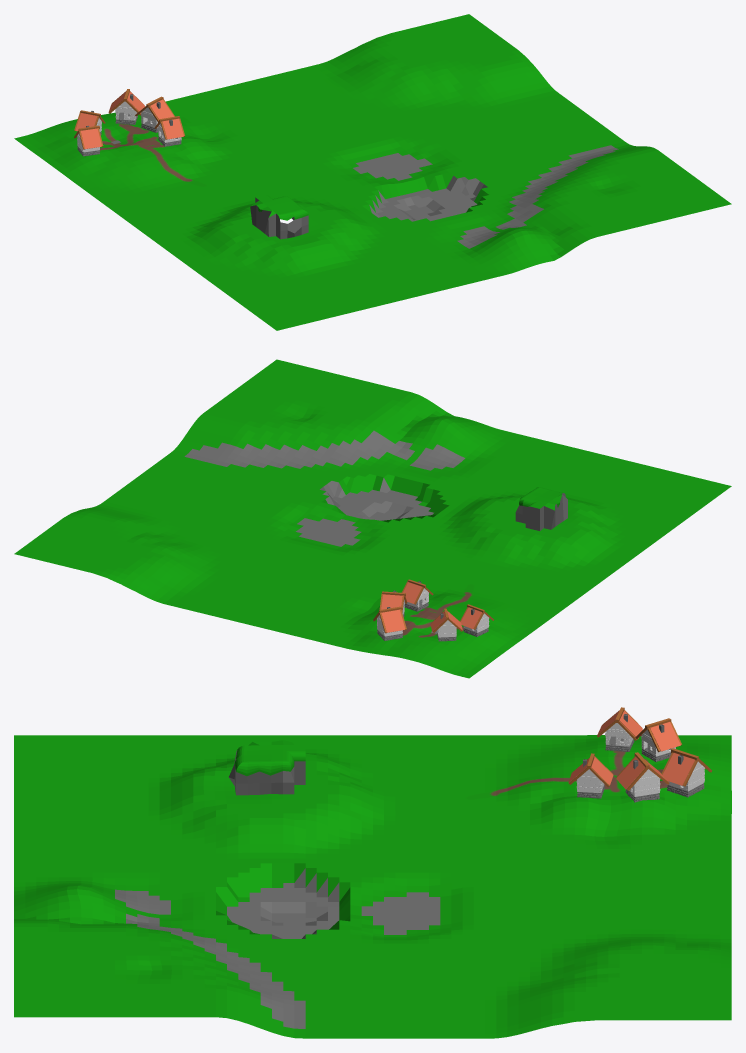
The model's file is road1Map.fbx.
3 views of the same model, one above another, from view 1: azimuth 30°, elevation 25°; view 2: azimuth 150°, elevation 25°; view 3: azimuth 270°, elevation 25° (orthographic). The views are drawn at different scales.
Visible parts, largest first — view 1: Plane, Cube.003, Cube.004, Cube.005, Cube.051; view 2: Plane, Cube.003, Cube.051, Cube.001, Cube.005; view 3: Plane, Cube.003, Cube.004, Cube.001, Cube.005, Cube.051.
Part boxes in pixels (bbox=[...]): Plane: bbox=[14, 14, 731, 330]; Cube.003: bbox=[108, 89, 144, 124]; Cube.004: bbox=[135, 96, 174, 132]; Cube.005: bbox=[154, 116, 184, 146]; Cube.051: bbox=[74, 125, 103, 156]; Plane: bbox=[14, 359, 731, 678]; Cube.003: bbox=[373, 606, 406, 640]; Cube.051: bbox=[460, 604, 493, 636]; Cube.001: bbox=[430, 608, 462, 641]; Cube.005: bbox=[402, 579, 433, 611]; Plane: bbox=[14, 735, 731, 1038]; Cube.003: bbox=[661, 748, 712, 797]; Cube.004: bbox=[616, 752, 669, 802]; Cube.001: bbox=[635, 718, 681, 761]; Cube.005: bbox=[568, 753, 613, 798]; Cube.051: bbox=[597, 707, 642, 751].
Size of the model in its own units: 21314 by 2293 by 21320.
